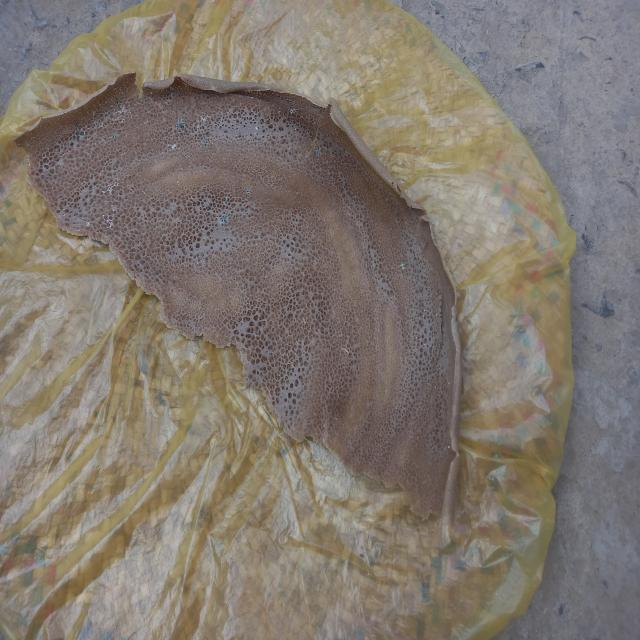injera_mold: (104, 180, 120, 193), (118, 105, 127, 119), (105, 216, 113, 230), (219, 213, 228, 223), (177, 119, 185, 130), (69, 139, 75, 149), (78, 128, 83, 140), (399, 262, 405, 270), (224, 195, 228, 206), (200, 115, 206, 122), (289, 108, 296, 114), (112, 112, 117, 120), (316, 148, 321, 156), (171, 144, 177, 150), (128, 108, 132, 117), (246, 189, 251, 196), (85, 220, 90, 227), (111, 134, 117, 139), (100, 121, 104, 128), (203, 142, 208, 147), (104, 109, 109, 114), (185, 153, 189, 159), (142, 190, 146, 196), (91, 110, 94, 118), (423, 342, 427, 348), (177, 180, 180, 187), (196, 123, 199, 130), (144, 98, 148, 103), (144, 119, 148, 124), (25, 141, 29, 146), (92, 223, 94, 231), (110, 204, 114, 208), (101, 138, 105, 142), (120, 120, 124, 124), (62, 213, 66, 217), (135, 113, 139, 117), (42, 155, 46, 159), (255, 126, 258, 131), (294, 127, 297, 132), (28, 163, 31, 168), (58, 214, 61, 219), (74, 121, 76, 128), (44, 165, 46, 171), (31, 136, 35, 139), (95, 122, 98, 126), (116, 100, 119, 104), (170, 92, 173, 96), (162, 110, 166, 113), (83, 130, 85, 136), (133, 103, 136, 107), (104, 124, 107, 128), (94, 142, 97, 146), (48, 163, 52, 166), (58, 148, 61, 152), (234, 277, 237, 281), (448, 445, 450, 450), (102, 214, 104, 219), (101, 134, 106, 136), (278, 110, 280, 114), (90, 150, 92, 154), (93, 124, 95, 128), (100, 225, 102, 229), (122, 99, 124, 103), (111, 105, 113, 109), (116, 124, 118, 128), (120, 128, 122, 132), (392, 402, 394, 406), (434, 386, 436, 389), (441, 377, 443, 380), (130, 188, 133, 190), (96, 222, 99, 224), (78, 229, 80, 232), (52, 187, 54, 190), (101, 190, 103, 193), (138, 102, 141, 104), (150, 92, 152, 95), (448, 382, 450, 384), (422, 315, 424, 317), (416, 336, 417, 340), (436, 314, 438, 316), (273, 124, 274, 128), (199, 260, 201, 262), (53, 166, 55, 168), (112, 122, 114, 124), (167, 144, 169, 146), (106, 151, 108, 153), (135, 108, 137, 110), (140, 100, 142, 102), (420, 338, 421, 341), (81, 157, 82, 160), (244, 250, 245, 253), (248, 239, 249, 242), (424, 310, 425, 312), (271, 122, 272, 124), (115, 161, 116, 163), (386, 390, 387, 392)
